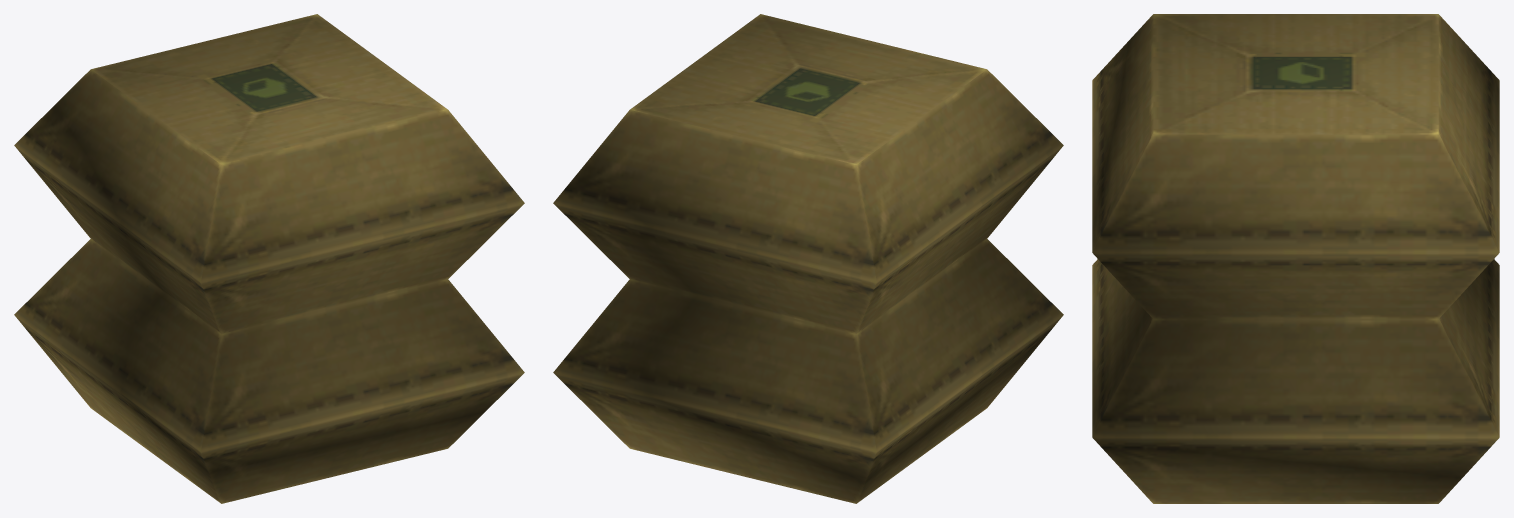
Rendered from sandbag.obj.
3 views of the same model, side by side, from view 1: azimuth 30°, elevation 25°; view 2: azimuth 150°, elevation 25°; view 3: azimuth 270°, elevation 25° (orthographic). The views are drawn at different scales.
Visible parts, largest first — view 1: sandbag; view 2: sandbag; view 3: sandbag.
Boxes of the visible parts, x1,y1,x2,y2 form: sandbag: (14,14,524,503); sandbag: (553,14,1063,503); sandbag: (1092,14,1499,503).
Bounding box in the file's own units: 1 × 1 × 1.
1 material, 1 textured.
